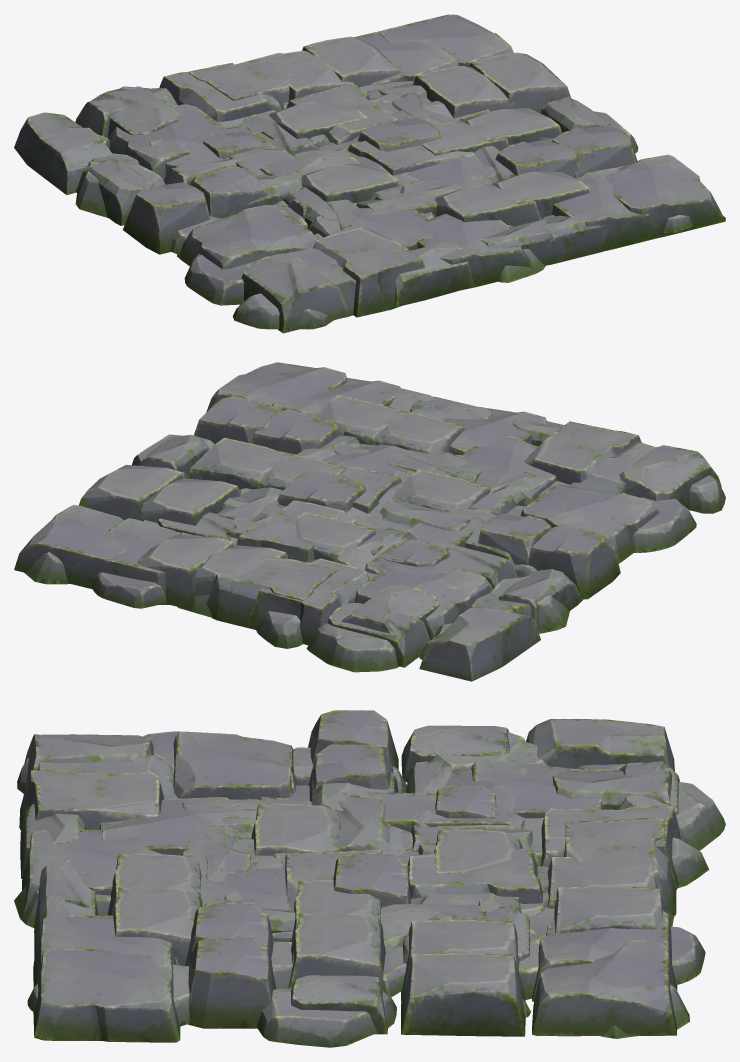
The model's file is rockpath.glb.
The picture shows the model from 3 angles, top to bottom: view 1: azimuth 30°, elevation 25°; view 2: azimuth 150°, elevation 25°; view 3: azimuth 270°, elevation 25°; orthographic projection. The views are drawn at different scales.
Visible parts, largest first — view 1: RockPath_Square_Wide, RockPath_Square_Thin, RockPath_Square_Small_3, RockPath_Round_Wide, RockPath_Square_Small_2, RockPath_Square_Small_1; view 2: RockPath_Square_Wide, RockPath_Square_Thin, RockPath_Round_Wide, RockPath_Square_Small_3, RockPath_Square_Small_2, RockPath_Square_Small_1, RockPath_Round_Thin; view 3: RockPath_Square_Wide, RockPath_Square_Thin, RockPath_Round_Wide, RockPath_Square_Small_3, RockPath_Square_Small_2, RockPath_Round_Thin, RockPath_Square_Small_1, RockPath_Round_Small_2, RockPath_Round_Small_1.
Boxes of the visible parts, x1=… form: RockPath_Square_Wide: x1=14, y1=14, x2=725, y2=333; RockPath_Square_Thin: x1=98, y1=30, x2=656, y2=315; RockPath_Square_Small_3: x1=226, y1=88, x2=492, y2=214; RockPath_Round_Wide: x1=75, y1=86, x2=692, y2=329; RockPath_Square_Small_2: x1=229, y1=92, x2=515, y2=221; RockPath_Square_Small_1: x1=203, y1=131, x2=418, y2=211; RockPath_Square_Wide: x1=14, y1=362, x2=721, y2=681; RockPath_Square_Thin: x1=70, y1=378, x2=656, y2=645; RockPath_Round_Wide: x1=24, y1=434, x2=725, y2=672; RockPath_Square_Small_3: x1=225, y1=444, x2=495, y2=573; RockPath_Square_Small_2: x1=217, y1=434, x2=523, y2=560; RockPath_Square_Small_1: x1=370, y1=469, x2=493, y2=566; RockPath_Round_Thin: x1=143, y1=480, x2=570, y2=648; RockPath_Square_Wide: x1=19, y1=710, x2=679, y2=1042; RockPath_Square_Thin: x1=20, y1=744, x2=680, y2=1001; RockPath_Round_Wide: x1=14, y1=731, x2=725, y2=1047; RockPath_Square_Small_3: x1=181, y1=803, x2=524, y2=912; RockPath_Square_Small_2: x1=204, y1=792, x2=493, y2=935; RockPath_Round_Thin: x1=19, y1=786, x2=708, y2=999; RockPath_Square_Small_1: x1=222, y1=785, x2=496, y2=941; RockPath_Round_Small_2: x1=383, y1=906, x2=554, y2=949; RockPath_Round_Small_1: x1=179, y1=818, x2=543, y2=866.
Size of what is drawn, in the model's own units: 2.11 by 0.1794 by 2.13.
1 material, 1 textured.
